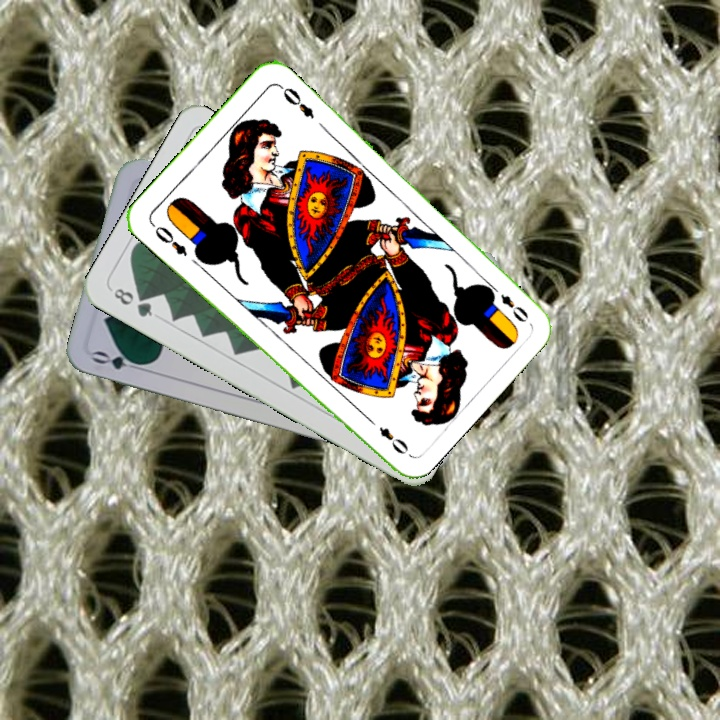EO: (484, 279, 531, 325), (147, 219, 190, 259)
G8: (109, 284, 155, 320)
GO: (88, 346, 149, 374)
